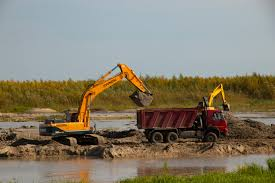excavator: (39, 64, 156, 139)
